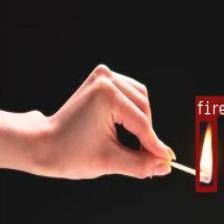fire: (195, 115, 216, 191)
